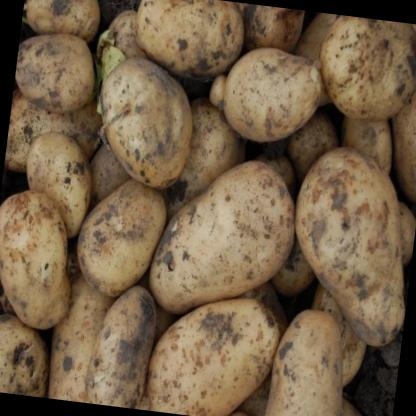potato: (278, 137, 416, 351), (144, 146, 304, 330), (141, 283, 286, 416), (42, 224, 134, 406), (88, 51, 202, 192), (72, 166, 172, 303), (0, 184, 84, 335), (217, 39, 328, 152), (311, 12, 416, 130), (127, 0, 249, 89), (262, 302, 355, 416), (80, 279, 160, 410), (16, 126, 100, 242), (10, 26, 102, 120), (221, 2, 306, 78), (0, 308, 56, 397), (20, 0, 104, 51)
